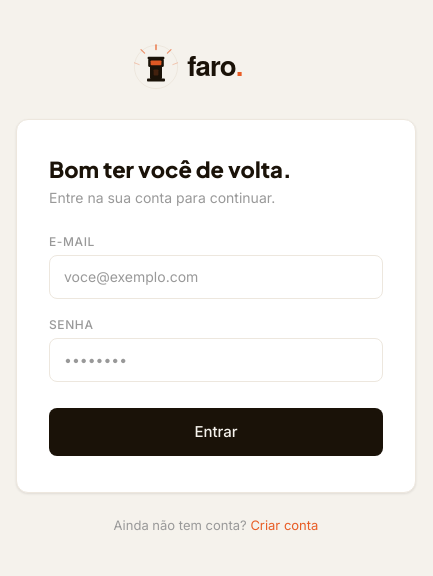
Test: LoginPage › exibe mensagem de erro quando login falha
In the field labelled "E-mail": (216, 277) [49, 255, 383, 299], type "joao@test.com"
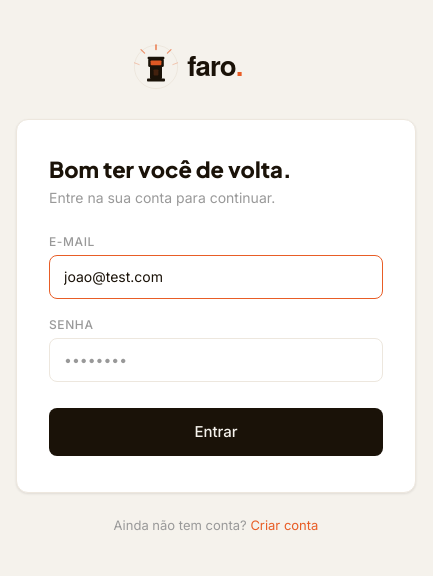
In the password field labelled "Senha": (216, 360) [49, 338, 383, 382], type "senha-errada"
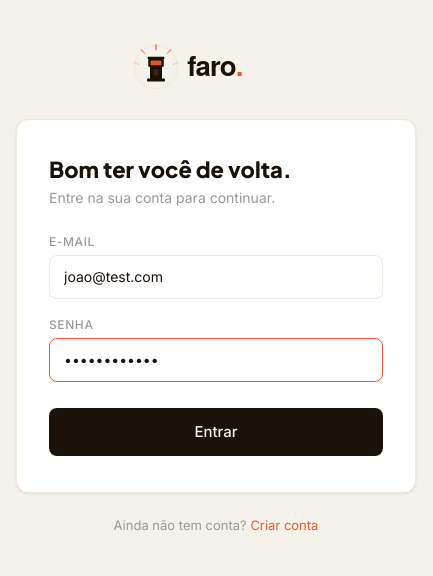
Click the button "Entrar": (216, 432) [49, 408, 383, 456]
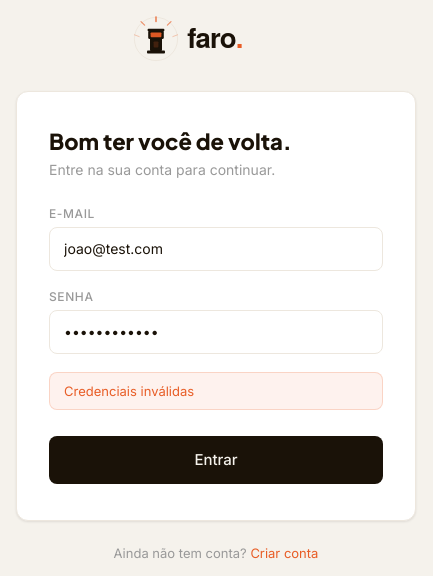
Result: the text "Credenciais inválidas" is shown at [49, 372, 383, 410]
